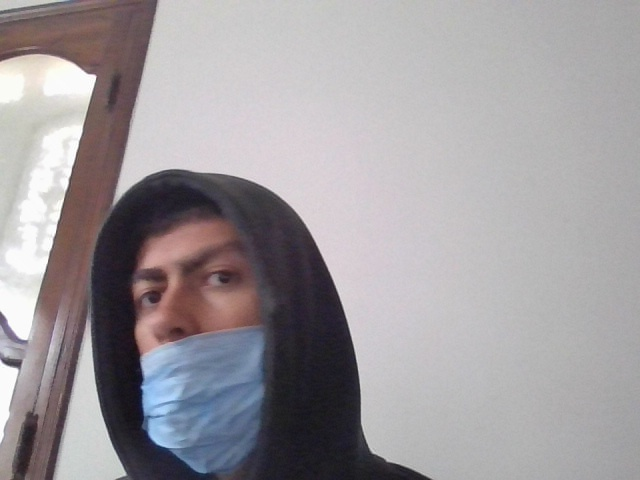mask_weared_incorrect: (110, 176, 280, 476)
